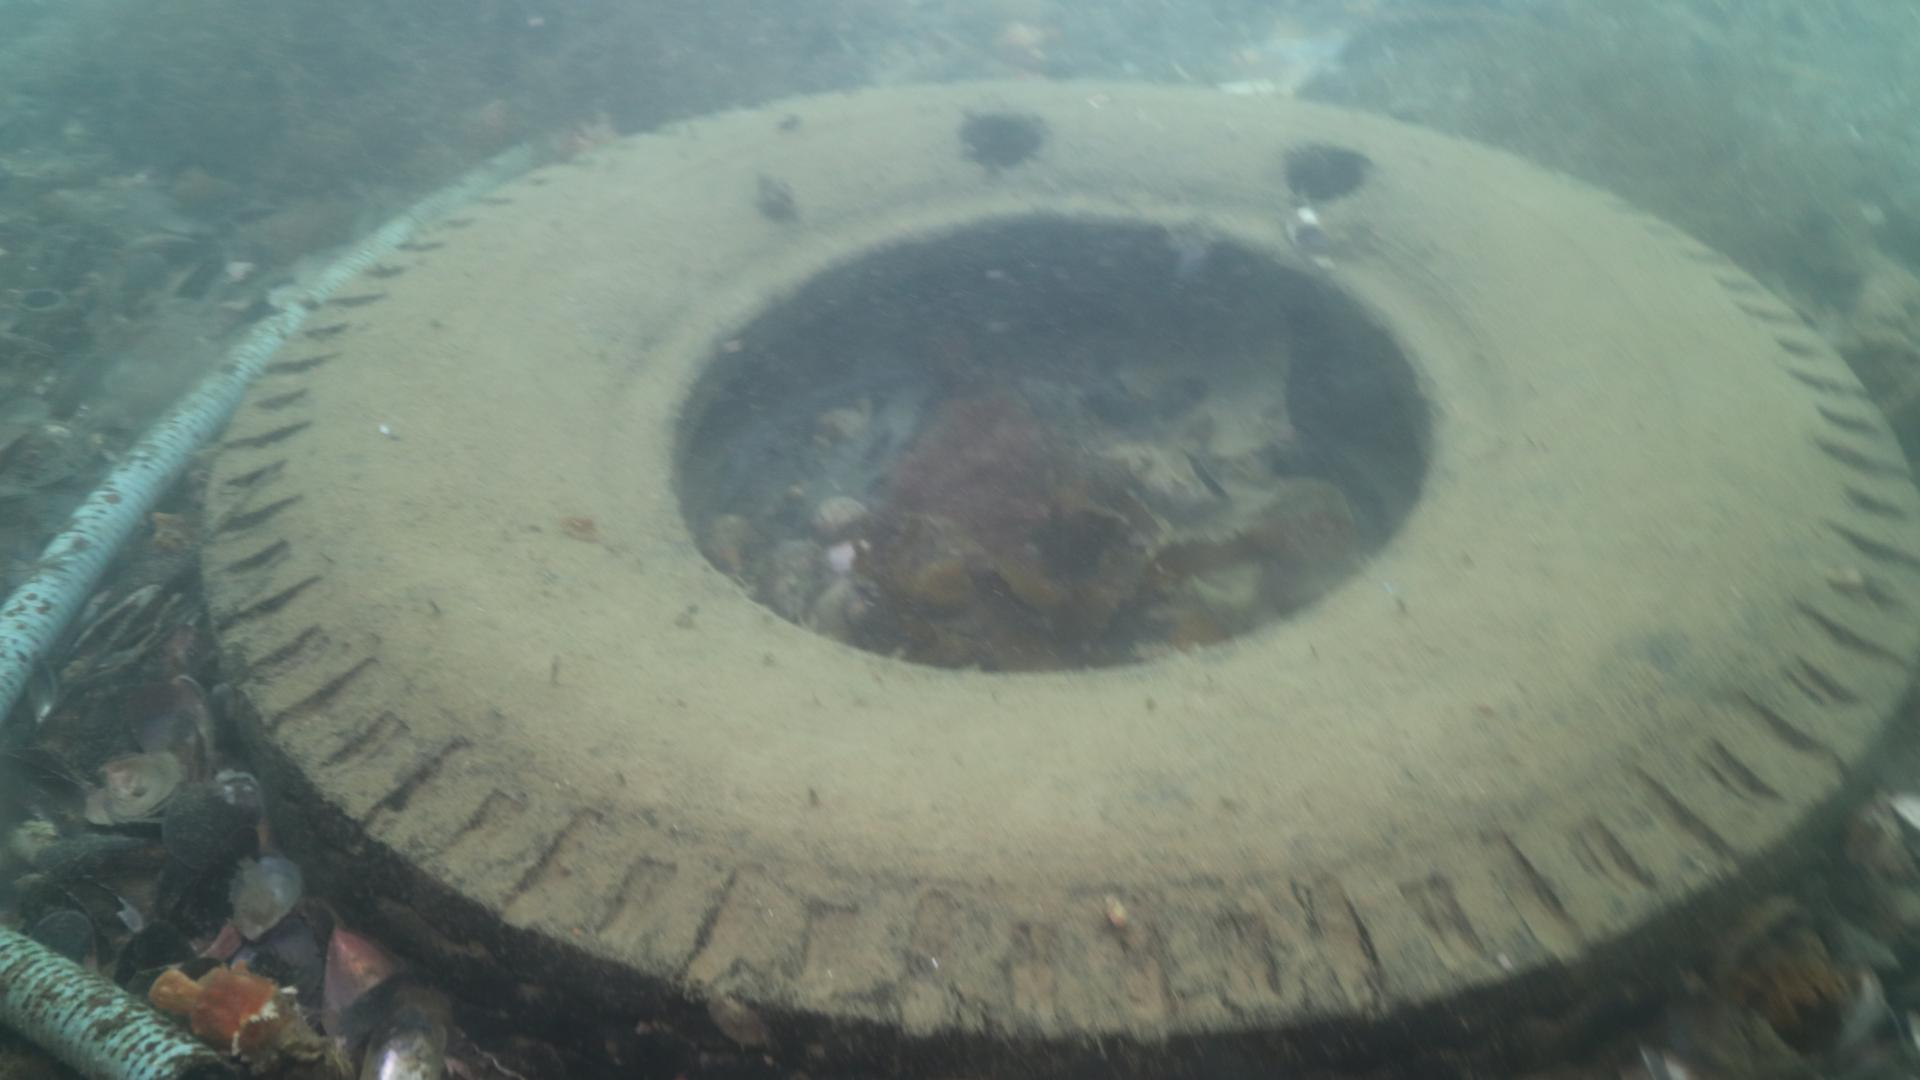tire: (218, 74, 1917, 1080)
